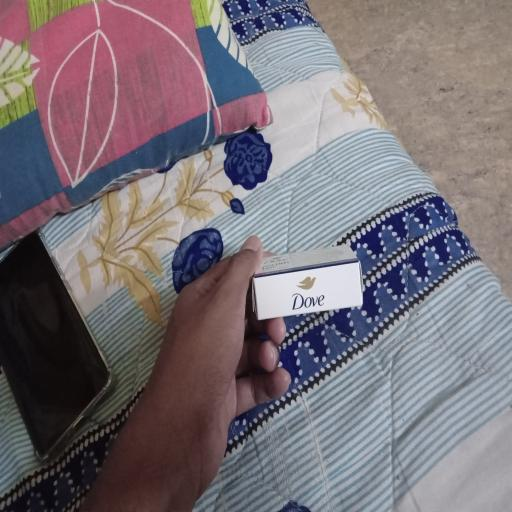Dove`1: (249, 249, 378, 328)
